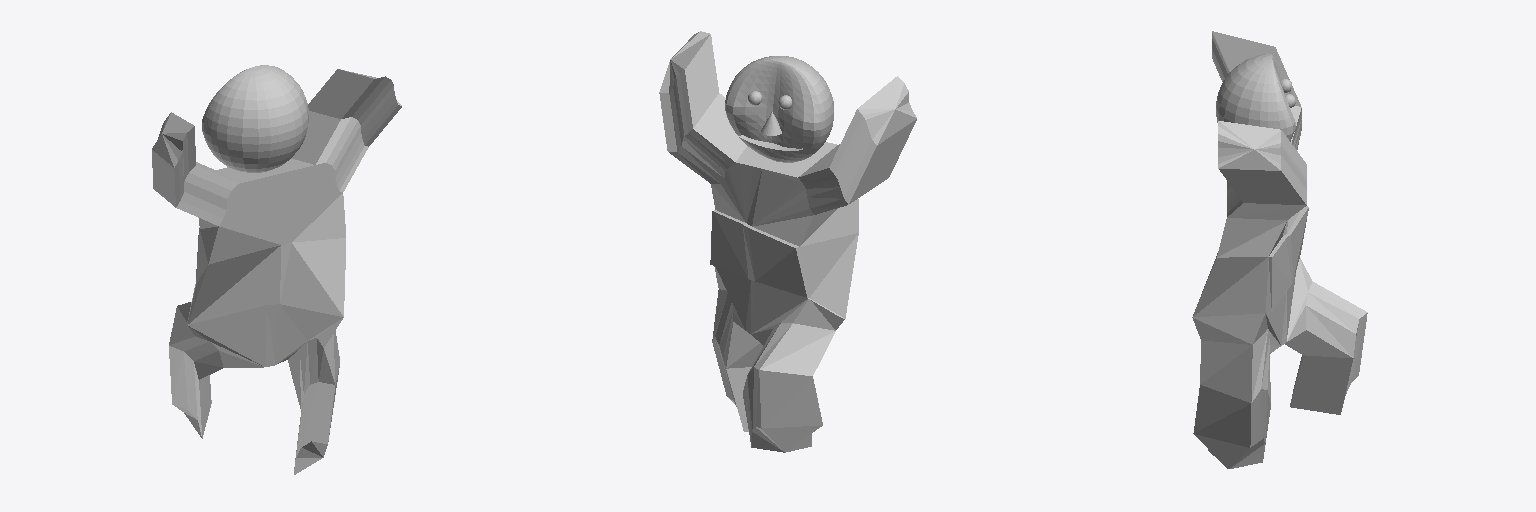
The model's file is man_000021.obj.
3 views of the same model, side by side, from view 1: azimuth 30°, elevation 25°; view 2: azimuth 150°, elevation 25°; view 3: azimuth 270°, elevation 25° (orthographic).
Parts seen in each view (by area): view 1: Cube; view 2: Cube; view 3: Cube.
Boxes of the visible parts, x1,y1,x2,y2 form: Cube: [152, 65, 401, 474]; Cube: [659, 31, 916, 452]; Cube: [1192, 31, 1367, 468].
Bounding box in the file's own units: 79.08 × 127 × 51.99.